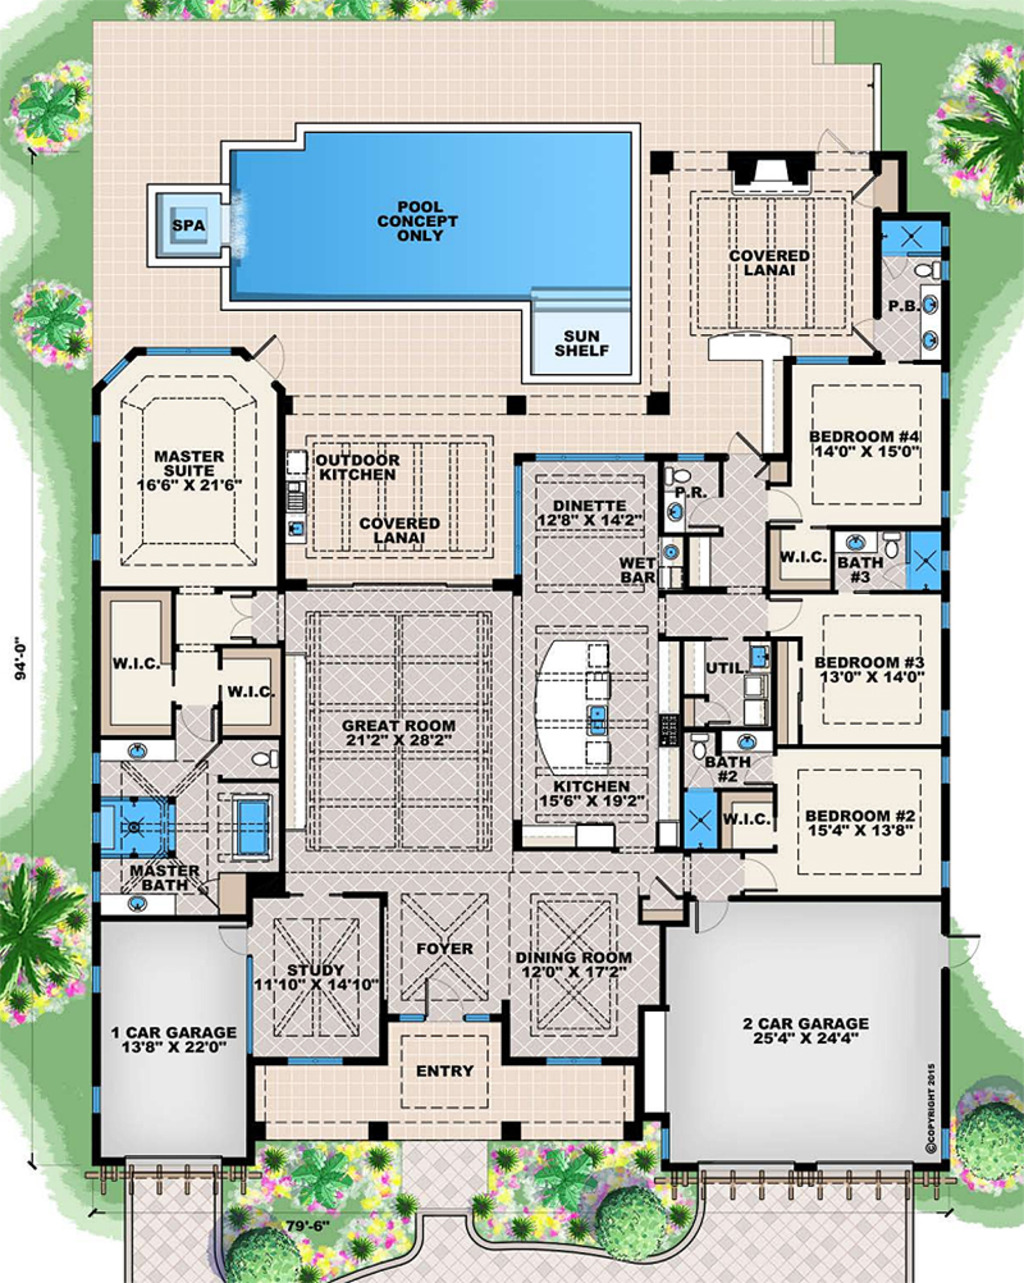door: (225, 592, 263, 650), (737, 850, 775, 895), (766, 482, 802, 524), (689, 896, 725, 936), (211, 924, 253, 958), (252, 334, 284, 377)
kitchen_bar: (533, 634, 615, 782)
large_sink: (238, 745, 281, 771)
small_sink: (99, 736, 181, 766)
windows: (273, 1051, 356, 1071), (533, 1052, 601, 1071)
